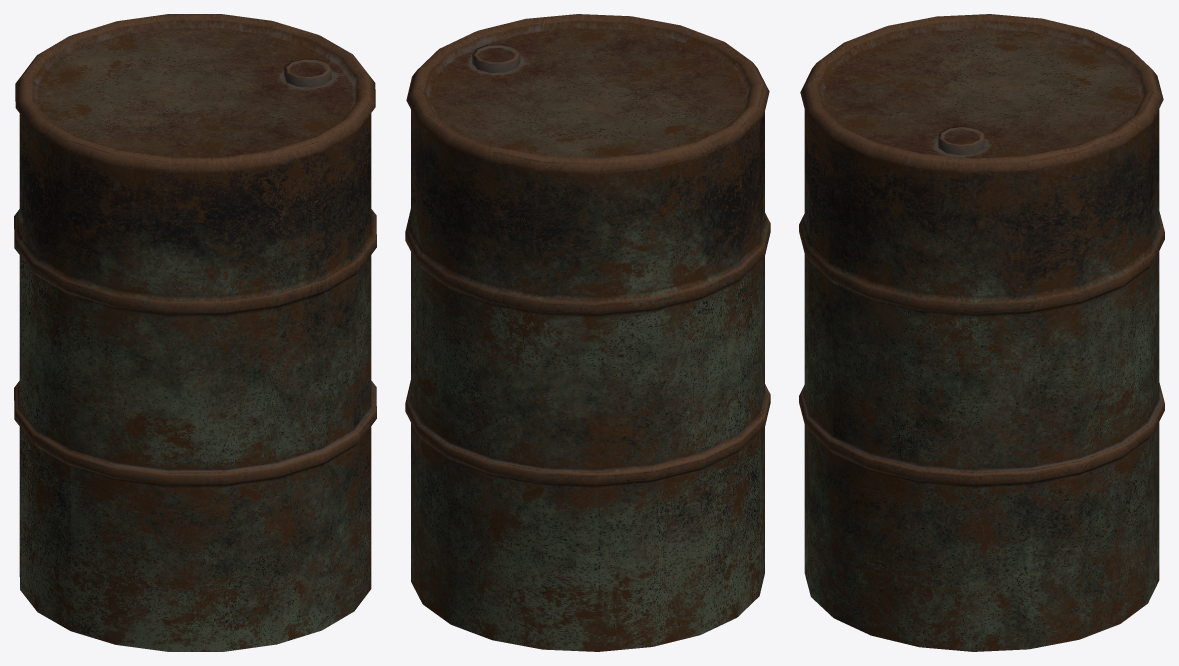
File: Barrel.fbx
3 renders of one model, left to right at view 1: azimuth 30°, elevation 25°; view 2: azimuth 150°, elevation 25°; view 3: azimuth 270°, elevation 25°, orthographic.
Parts seen in each view (by area): view 1: pCylinder40; view 2: pCylinder40; view 3: pCylinder40.
Boxes of the visible parts, x1=… form: pCylinder40: x1=14, y1=14, x2=376, y2=651; pCylinder40: x1=405, y1=14, x2=770, y2=651; pCylinder40: x1=799, y1=14, x2=1164, y2=651.
Bounding box in the file's own units: 0.8663 × 1.28 × 0.8663.
Materials: 1 (1 with a texture image).
